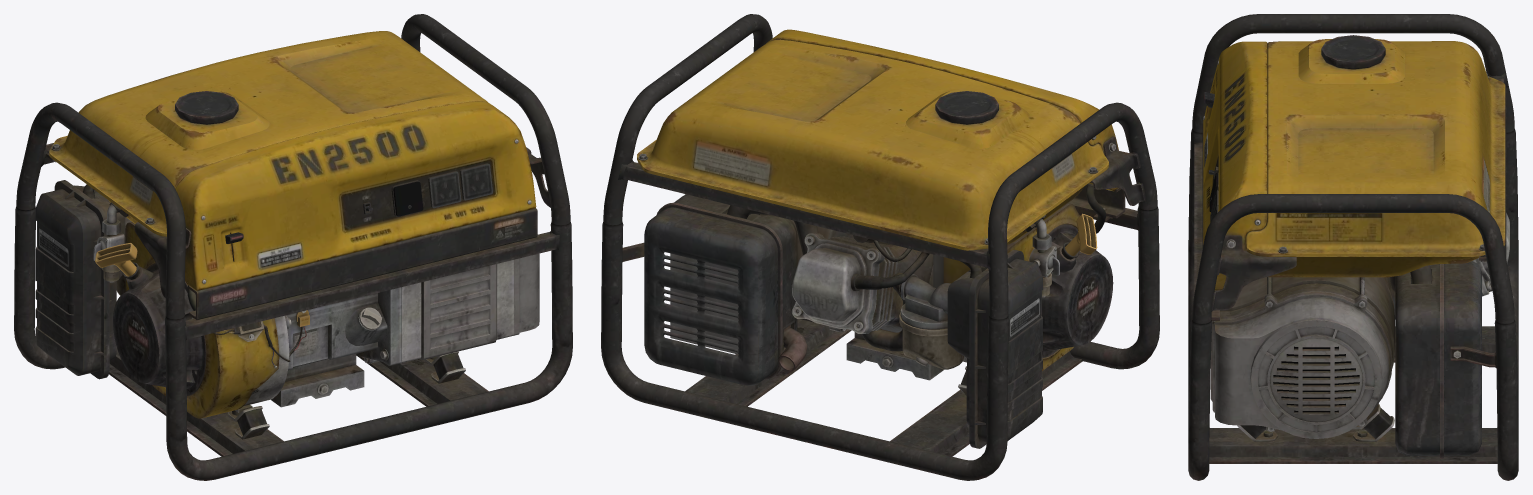
File: portable_generator.glb
3 views of the same model, side by side, from view 1: azimuth 30°, elevation 25°; view 2: azimuth 150°, elevation 25°; view 3: azimuth 270°, elevation 25° (orthographic).
Size of the model in its own units: 0.8183 by 0.5769 by 0.564.
1 material, 1 textured.
